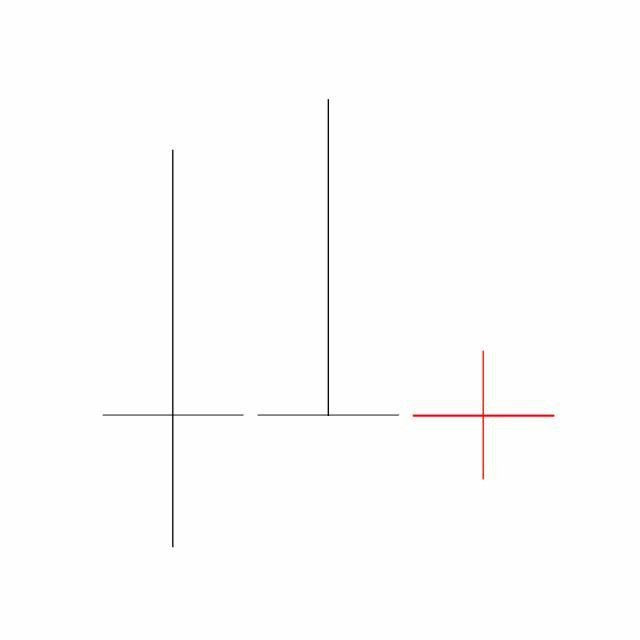Gravestone Doji: (250, 96, 407, 420)
